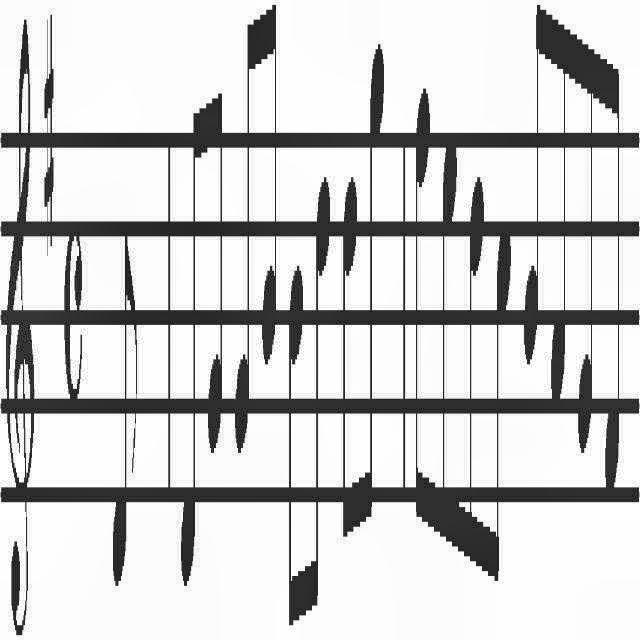Bass-clef: (4, 15, 36, 633)
Diez: (40, 6, 56, 270)
Eighth-note: (105, 233, 138, 599), (365, 12, 387, 560), (436, 90, 458, 610), (311, 145, 334, 640), (412, 46, 432, 590), (179, 102, 201, 590), (601, 28, 623, 504), (232, 0, 254, 468), (464, 133, 484, 634), (340, 130, 360, 598), (490, 172, 510, 638), (574, 12, 594, 464), (206, 67, 226, 509), (520, 0, 543, 372), (549, 18, 569, 430), (284, 258, 304, 640), (260, 0, 280, 372)
